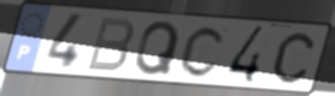4: (44, 11, 87, 73), (225, 24, 266, 86)
B: (84, 16, 137, 74)
C: (177, 24, 228, 79), (271, 30, 316, 86)
Q: (133, 20, 182, 78)
